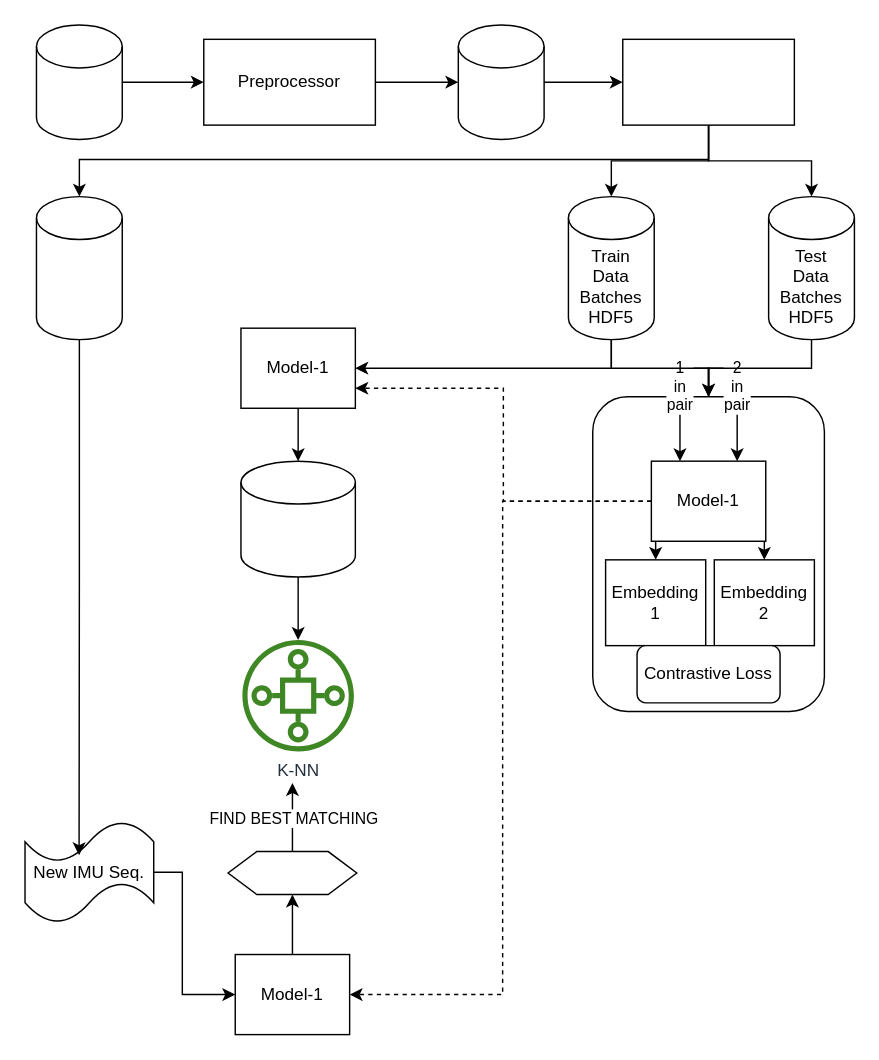
The diagram is 879 pixels wide and 1060 high, and some of its shapes have lost their labels. Each missing label, with the centre of its shape:
Embeddings DB: point (297, 518)
New IMU Embedding: point (292, 872)
Processed Data HDF5: point (500, 81)
Raw Data HDF5: point (78, 81)
Train Test Val Batch Generator: point (707, 81)
Val Data Batches HDF5: point (78, 267)
